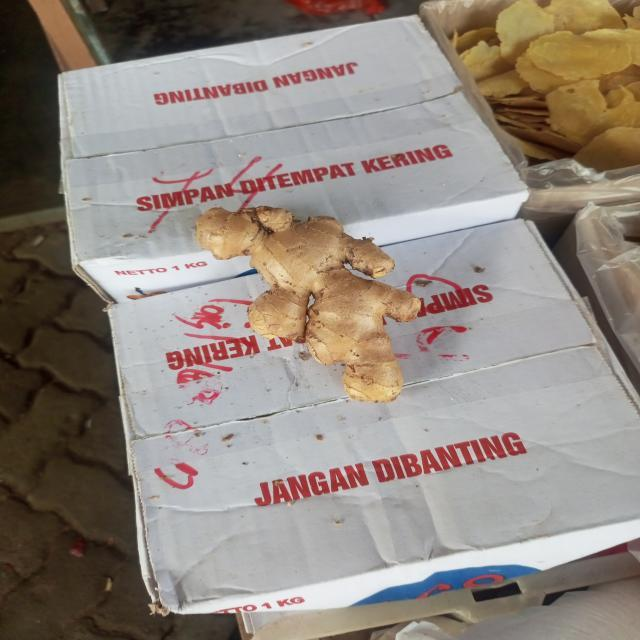ginger: (194, 206, 416, 398)
